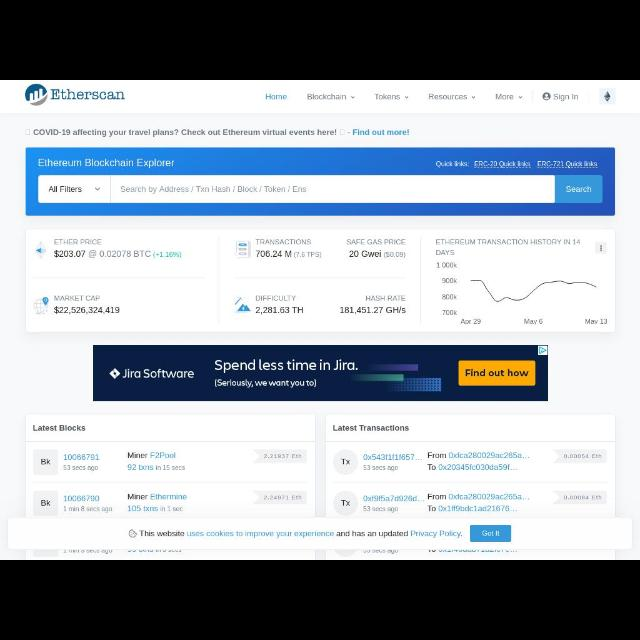icon: (595, 242, 607, 254), (128, 528, 138, 538), (542, 92, 552, 100), (94, 186, 102, 192), (518, 94, 524, 100), (350, 96, 356, 100), (404, 95, 410, 99), (472, 95, 476, 99)
iframe: (94, 346, 548, 400)
image: (435, 238, 609, 326), (24, 84, 126, 106), (234, 240, 252, 260), (32, 296, 49, 316), (234, 296, 252, 314), (600, 88, 616, 104), (35, 242, 47, 260)
input: (110, 175, 556, 203)
multitab: (225, 80, 640, 114)
spinner: (39, 175, 110, 202), (306, 92, 356, 101), (428, 94, 477, 102), (374, 92, 411, 101), (494, 92, 524, 101)
text: (140, 529, 464, 539), (434, 239, 582, 257), (32, 128, 338, 136), (38, 157, 176, 169), (119, 186, 307, 194), (54, 250, 182, 260), (427, 492, 531, 502), (428, 451, 530, 461), (428, 462, 518, 472), (428, 505, 518, 513), (332, 423, 410, 432), (54, 306, 120, 316), (536, 160, 600, 170), (362, 494, 426, 504), (126, 492, 188, 502), (474, 160, 532, 170), (255, 250, 323, 258), (340, 306, 406, 314), (32, 423, 88, 432), (362, 453, 423, 461), (256, 306, 304, 316), (346, 238, 406, 246), (126, 463, 186, 471), (352, 128, 411, 136), (349, 250, 407, 258), (255, 238, 312, 246), (128, 505, 184, 513), (63, 505, 114, 513), (127, 452, 177, 460), (54, 238, 102, 246), (63, 493, 101, 503), (362, 504, 400, 514), (306, 92, 348, 101), (54, 294, 100, 302), (61, 453, 100, 462), (62, 463, 100, 472), (436, 160, 470, 170), (262, 494, 304, 502), (363, 463, 399, 472), (428, 93, 468, 101), (366, 294, 406, 302), (263, 453, 303, 461), (562, 452, 602, 460), (564, 494, 602, 502), (47, 185, 83, 193), (583, 316, 609, 326), (256, 296, 296, 302), (553, 94, 579, 102), (461, 318, 482, 327), (265, 93, 287, 101), (436, 261, 458, 269), (523, 318, 545, 326), (373, 94, 401, 100), (494, 93, 514, 101), (442, 277, 458, 285), (442, 293, 458, 301), (442, 308, 458, 316), (340, 498, 352, 508), (40, 498, 51, 508), (40, 458, 52, 466), (341, 458, 352, 466)
textbutton: (556, 175, 602, 203), (471, 525, 512, 541)
